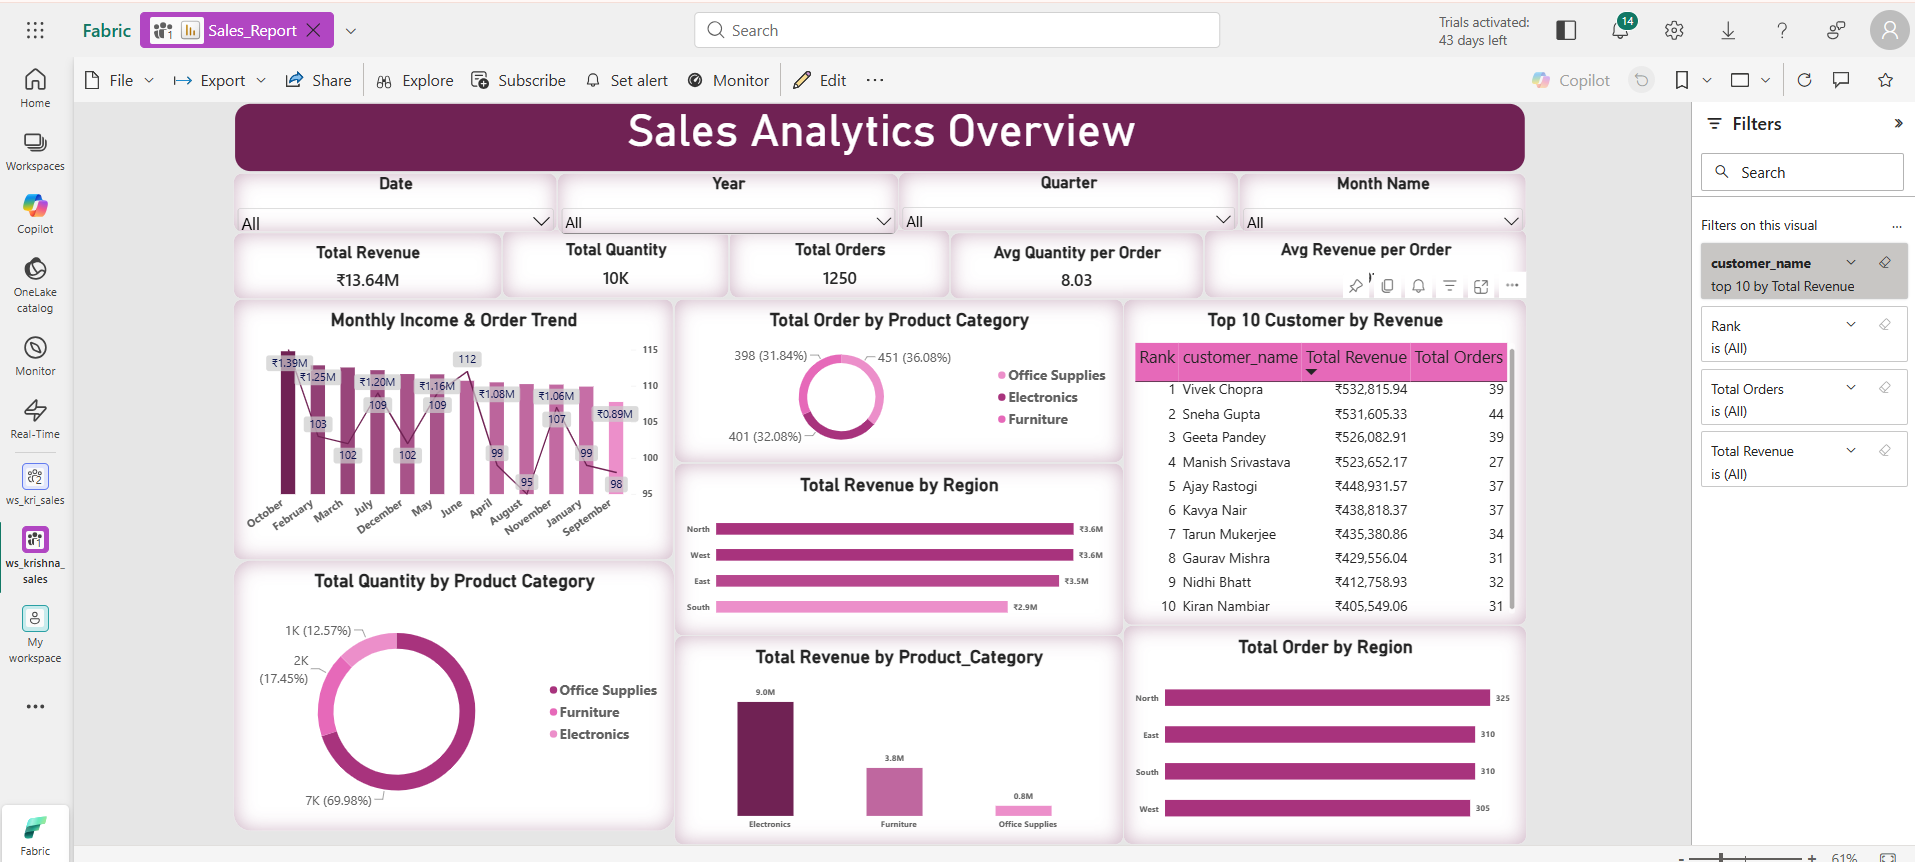

The page's visual inventory and layout, read from the dashboard file:
{"tool":"powerbi","page":{"name":"Sales Analytics","canvas":[1920,1080],"ordinal":0},"visuals":[{"type":"card","title":"Total Revenue","fields":{"Values":["Base_Measures.Total Revenue"]},"box":[16.5,188.9,390.7,97.2],"z":0},{"type":"card","title":"Total Quantity","fields":{"Values":["Base_Measures.Total Quantity"]},"box":[407.2,185.3,330.2,100.9],"z":1000},{"type":"card","title":"Total Orders","fields":{"Values":["Base_Measures.Total Orders"]},"box":[737.4,185.3,321,100.9],"z":2000},{"type":"card","title":"Avg Quantity per Order","fields":{"Values":["Base_Measures.Average Quantity per Order"]},"box":[1058.4,188.9,368.7,97.2],"z":3000},{"type":"card","title":"Avg Revenue per Order","fields":{"Values":["Base_Measures.Average Revenue per Order"]},"box":[1427,185.3,469.6,100.9],"z":4000},{"type":"barChart","title":"Total Revenue by Region","fields":{"Category":["dim_region.region"],"Y":["Base_Measures.Total Revenue"]},"box":[656.7,524.6,653,251.3],"z":5000},{"type":"barChart","title":"Total Order by Region","fields":{"Category":["dim_region.region"],"Y":["Base_Measures.Total Orders"]},"box":[1309.7,761.2,587,319.2],"z":6000},{"type":"donutChart","title":"Total Order by Product Category","fields":{"Category":["dim_product.product_category"],"Y":["Base_Measures.Total Orders"]},"box":[656.7,286.1,653,238.5],"z":7000},{"type":"donutChart","title":"Total Quantity by Product Category","fields":{"Category":["dim_product.product_category"],"Y":["Base_Measures.Total Quantity"]},"box":[16.5,665.8,642,394.4],"z":8000},{"type":"tableEx","title":"Top 10 Customer by Revenue","fields":{"Values":["Base_Measures.Rank","dim_customer.customer_name","Base_Measures.Total Revenue","Base_Measures.Total Orders"]},"box":[1309.7,286.1,587,475.1],"z":9000},{"type":"columnChart","title":"Total Revenue by Product_Category","fields":{"Category":["dim_product.product_category"],"Y":["Sum(fact_sales.revenue)"]},"box":[656.7,775.9,653,304.5],"z":10000},{"type":"lineStackedColumnComboChart","title":"Monthly Income & Order Trend","fields":{"Category":["dim_date.month_name"],"Y":["Base_Measures.Total Revenue"],"Y2":["Base_Measures.Total Orders"]},"box":[16.5,286.1,640.2,379.7],"z":11000},{"type":"textbox","title":"Sales Analytics Overview","box":[16.5,0,1880.1,102.7],"z":12000},{"type":"slicer","title":"Month Name","fields":{"Values":["dim_date.month_name"]},"box":[1478.4,102.7,418.2,86.2],"z":13000},{"type":"slicer","title":"Quarter","fields":{"Values":["dim_date.quarter"]},"box":[983.2,100.9,495.2,86.2],"z":14000},{"type":"slicer","title":"Year","fields":{"Values":["dim_date.year"]},"box":[487.9,102.7,497.1,89.9],"z":15000},{"type":"slicer","title":"Date","fields":{"Values":["dim_date.full_date"]},"box":[16.5,102.7,471.4,86.2],"z":16000}]}

Visuals, with their boxes on the page's 1920x1080 design canvas (x1, y1, x2, y2). These are canvas units, not pixel positions in the 1915x862 screenshot, which may show the page scaled, cropped or inside an application window:
"Total Revenue" card: left=16, top=189, right=407, bottom=286
"Total Quantity" card: left=407, top=185, right=737, bottom=286
"Total Orders" card: left=737, top=185, right=1058, bottom=286
"Avg Quantity per Order" card: left=1058, top=189, right=1427, bottom=286
"Avg Revenue per Order" card: left=1427, top=185, right=1897, bottom=286
"Total Revenue by Region" barChart: left=657, top=525, right=1310, bottom=776
"Total Order by Region" barChart: left=1310, top=761, right=1897, bottom=1080
"Total Order by Product Category" donutChart: left=657, top=286, right=1310, bottom=525
"Total Quantity by Product Category" donutChart: left=16, top=666, right=658, bottom=1060
"Top 10 Customer by Revenue" tableEx: left=1310, top=286, right=1897, bottom=761
"Total Revenue by Product_Category" columnChart: left=657, top=776, right=1310, bottom=1080
"Monthly Income & Order Trend" lineStackedColumnComboChart: left=16, top=286, right=657, bottom=666
"Sales Analytics Overview" textbox: left=16, top=0, right=1897, bottom=103
"Month Name" slicer: left=1478, top=103, right=1897, bottom=189
"Quarter" slicer: left=983, top=101, right=1478, bottom=187
"Year" slicer: left=488, top=103, right=985, bottom=193
"Date" slicer: left=16, top=103, right=488, bottom=189
